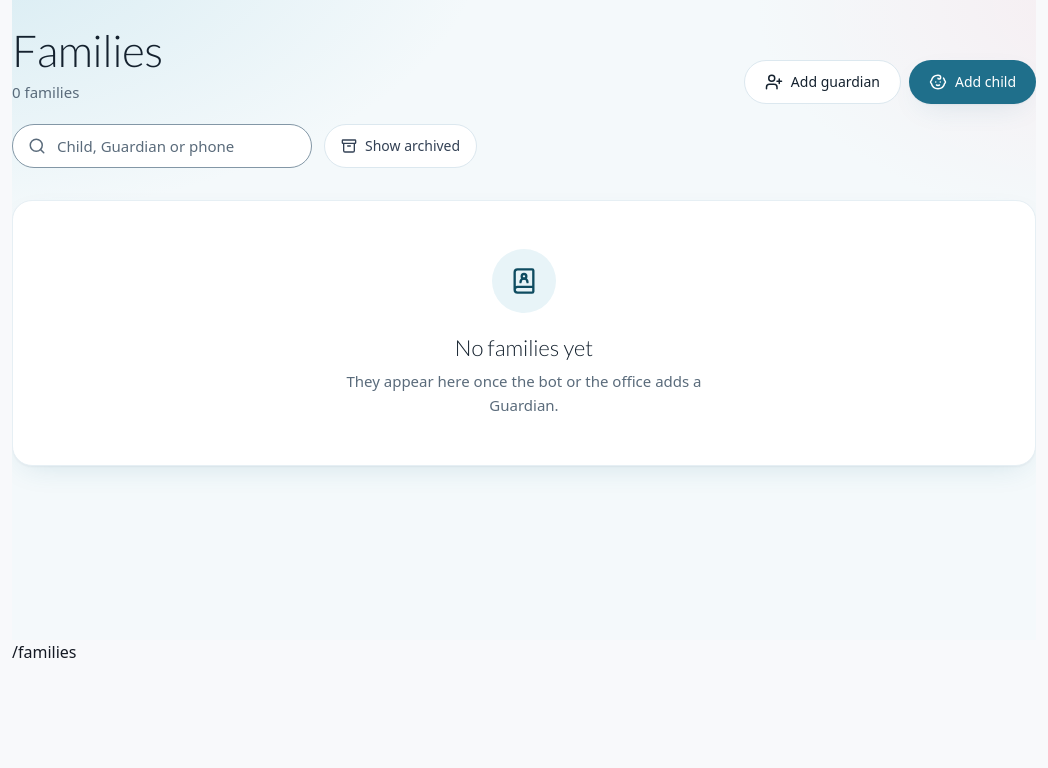
Test: families list › shows the loading skeleton, not the empty copy, while a new query loads after an empty one
Expected: the heading "No families yet" is shown, [455,333,593,363]
Click the button "Show archived": point(401, 146) [324,124,477,168]
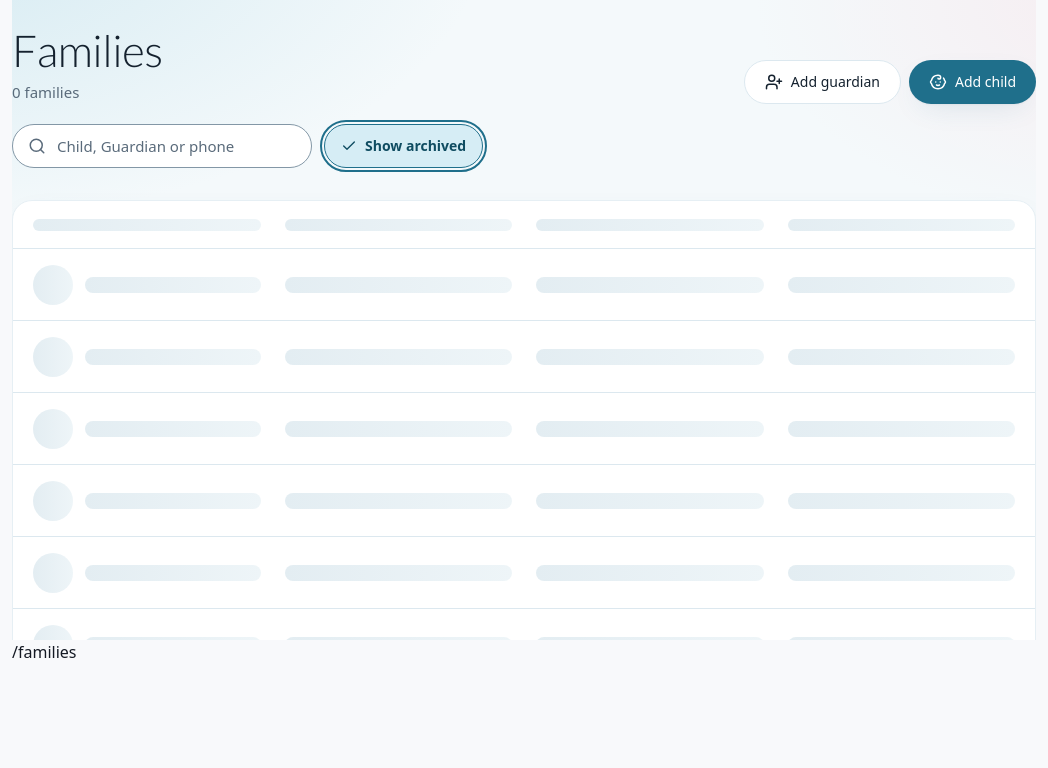
Result: the message named "Loading families" is shown at [12,200,1036,640]
